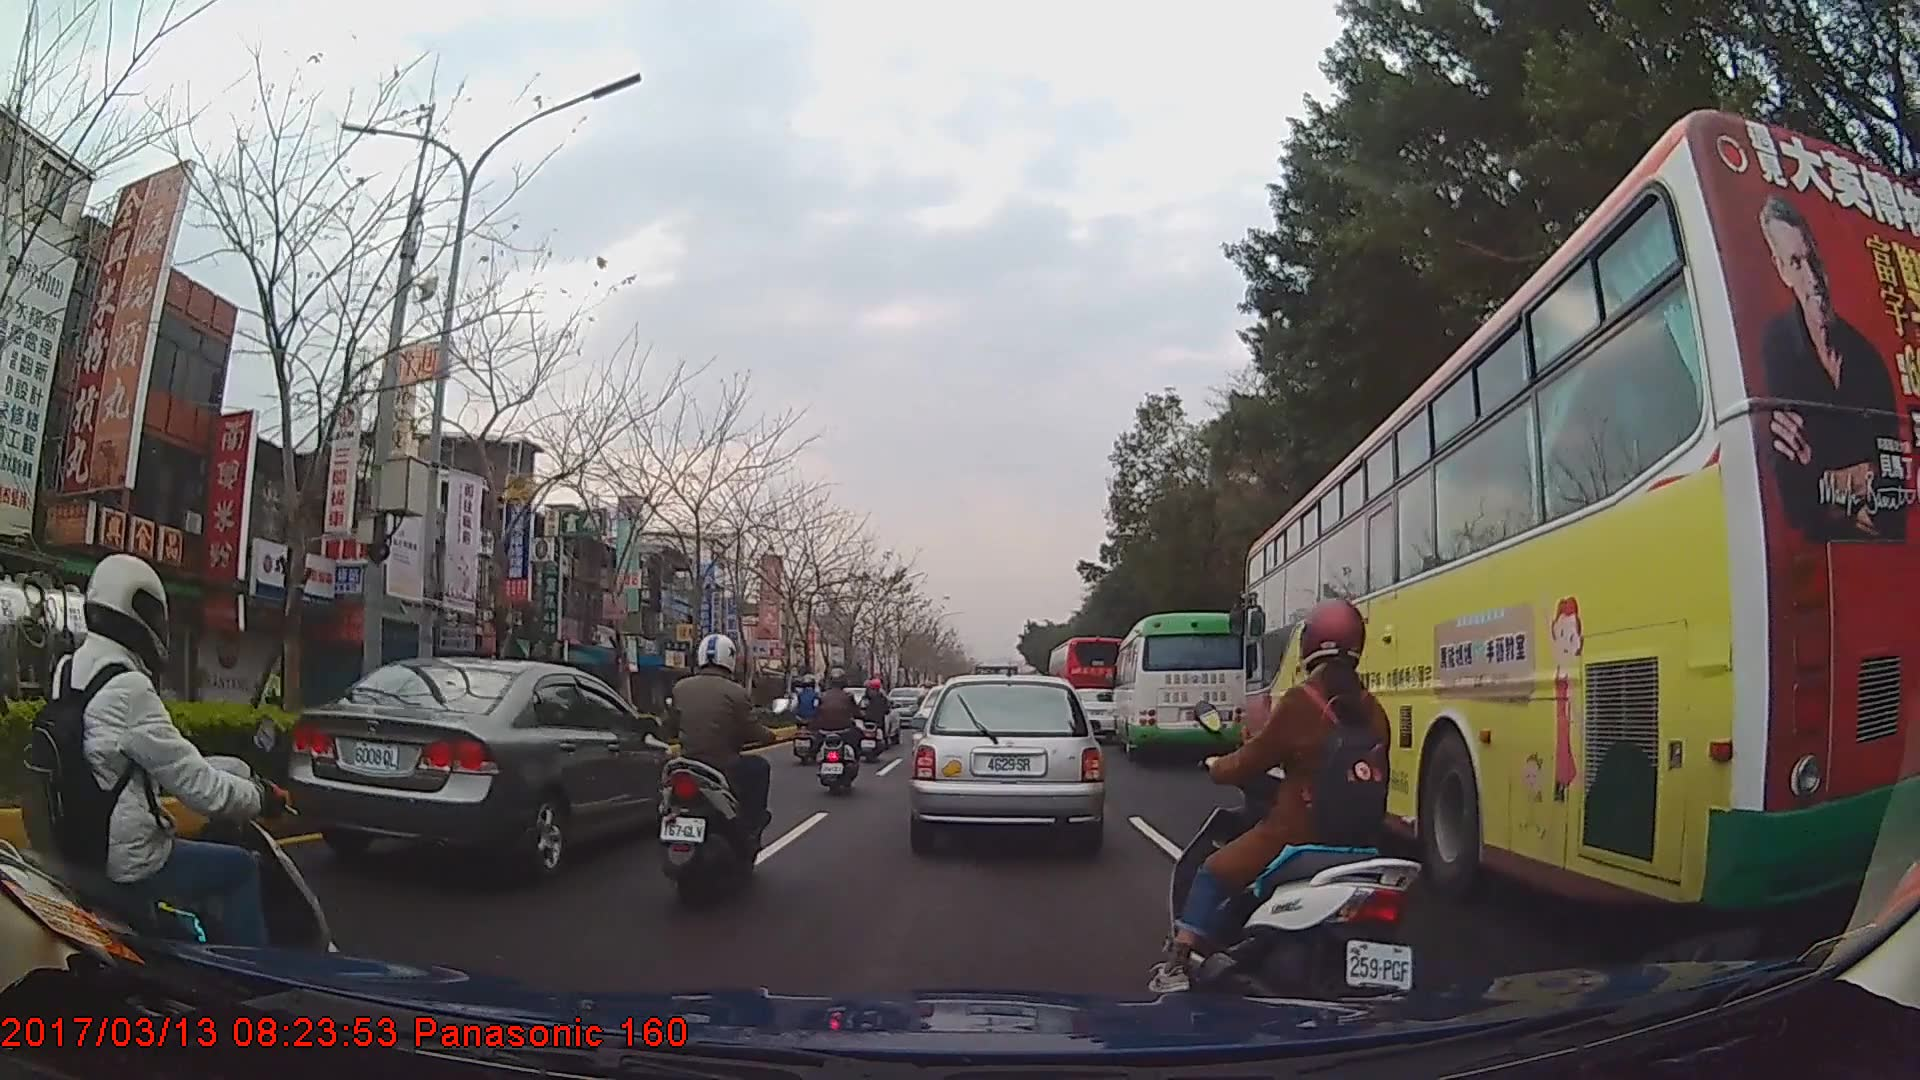rider: (6, 556, 336, 1005), (1142, 599, 1410, 1024), (655, 630, 790, 908), (813, 669, 859, 795), (856, 677, 890, 765), (791, 673, 829, 750)
vehicle: (1241, 107, 1920, 921), (285, 654, 680, 882), (912, 670, 1102, 850), (0, 571, 140, 751), (1109, 609, 1248, 761), (1045, 634, 1129, 733)
